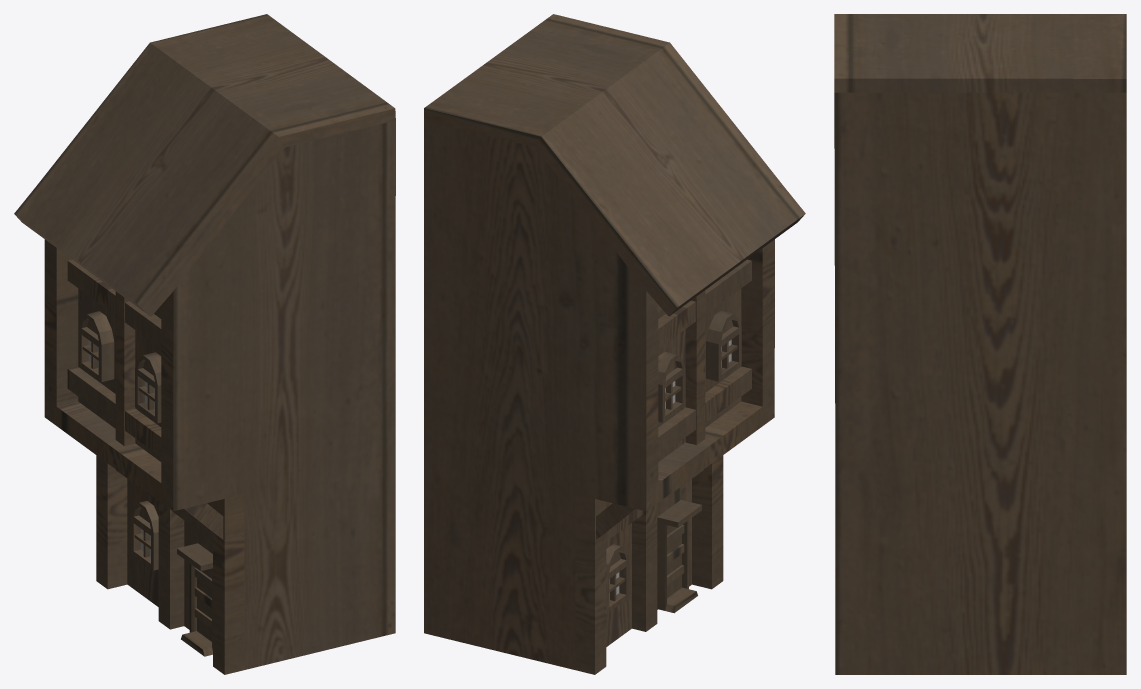
Rendered from Townhouse2.fbx.
3 renders of one model, left to right at view 1: azimuth 30°, elevation 25°; view 2: azimuth 150°, elevation 25°; view 3: azimuth 270°, elevation 25°, orthographic. The views are drawn at different scales.
Parts seen in each view (by area): view 1: Townhouse3; view 2: Townhouse3; view 3: Townhouse3.
Part boxes in pixels (x1,y1,x2,y2): Townhouse3: (14,14,395,674); Townhouse3: (424,14,805,674); Townhouse3: (834,14,1126,674).
Bounding box in the file's own units: 34.15 × 67.74 × 30.1.
